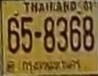3: (56, 16, 67, 51)
5: (20, 17, 34, 54)
6: (7, 17, 19, 53), (70, 15, 80, 51)
8: (43, 16, 55, 52), (82, 15, 94, 50)
BKK: (21, 57, 82, 73)
